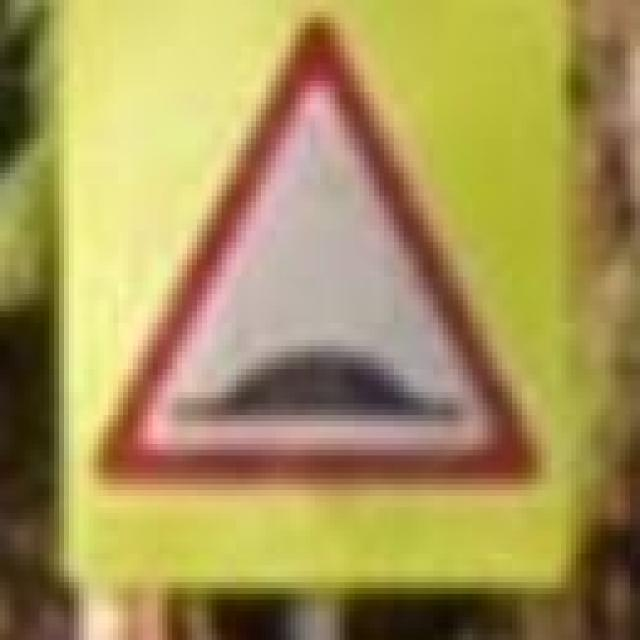traffic_sign: (89, 6, 552, 502)
